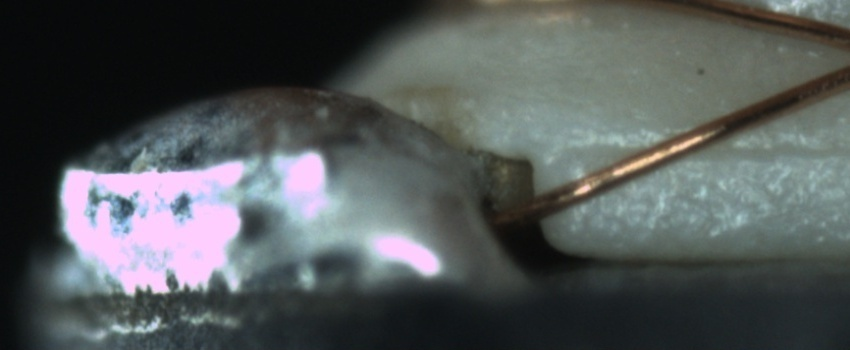DL: (600, 116, 849, 182)
